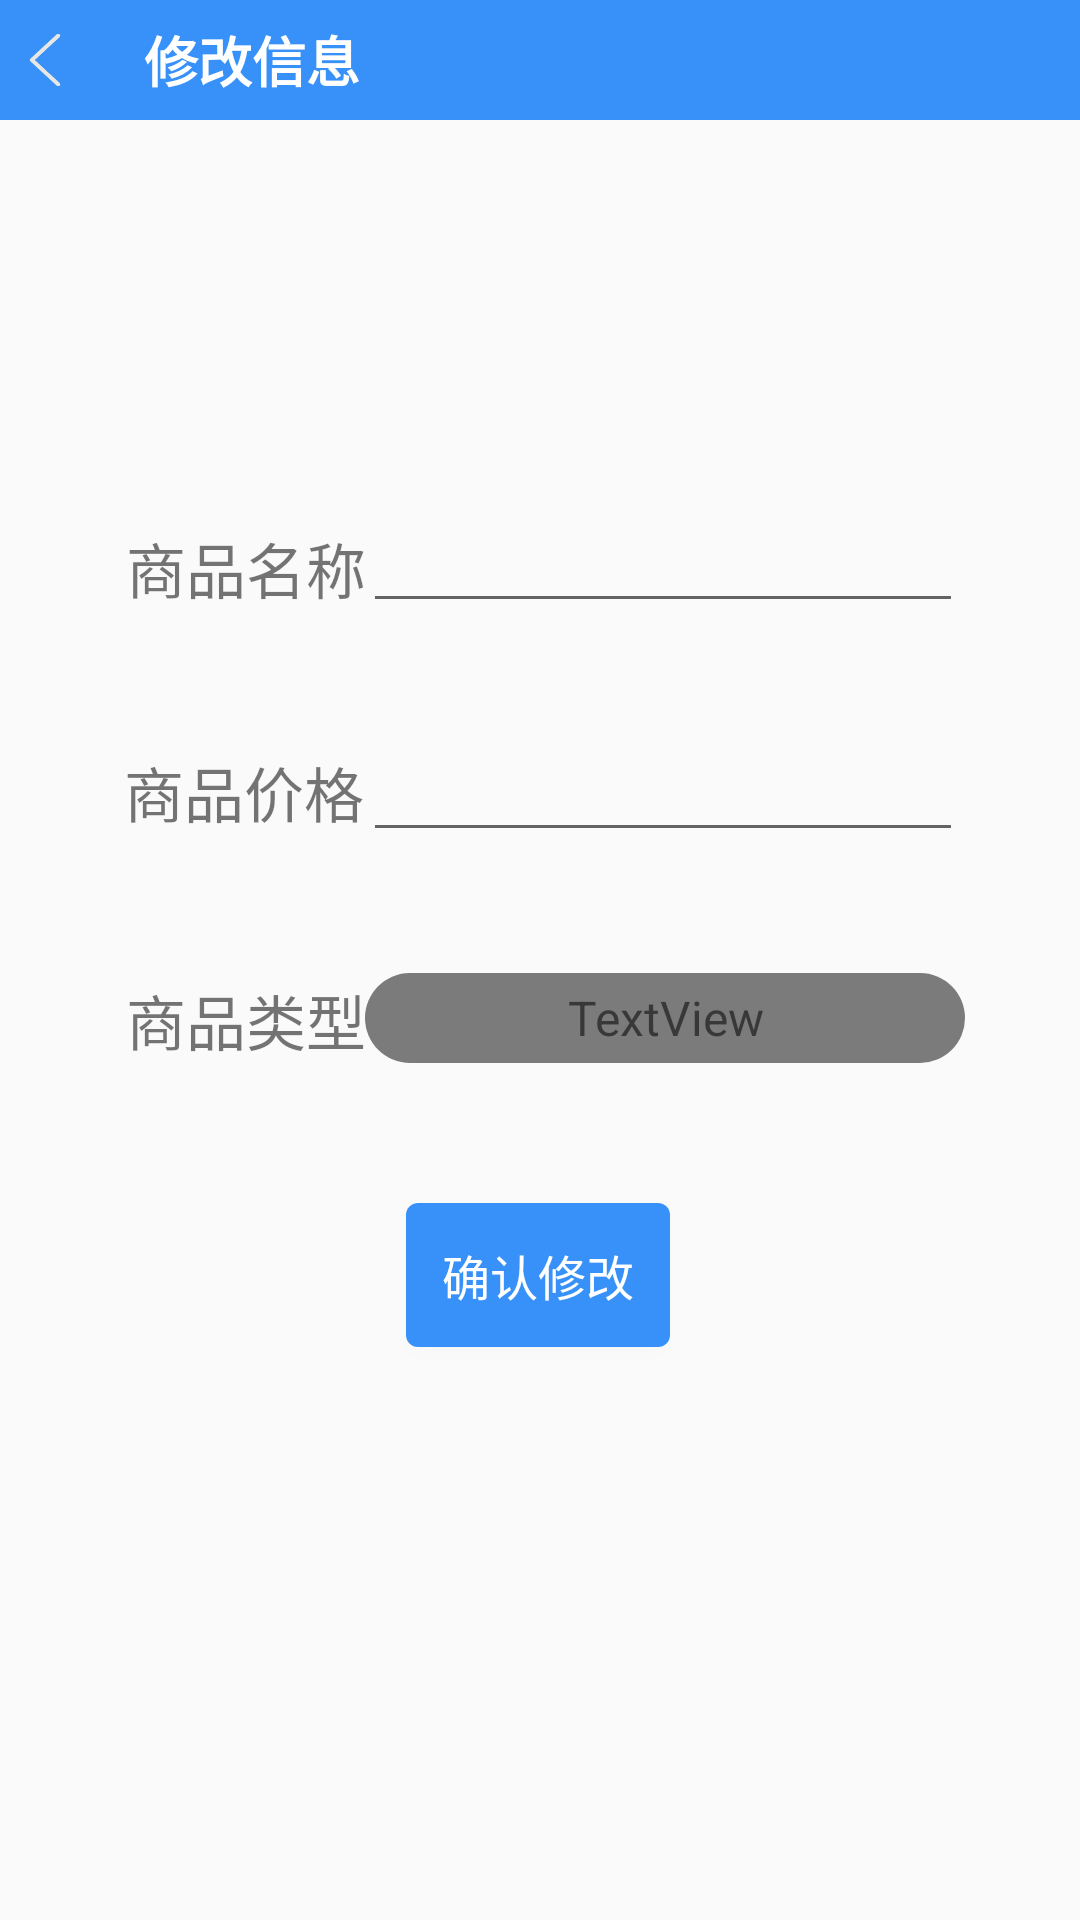

Screen size 1080*1920. Icon name, then its box in pixels as box(x1, y1, x2, y2):
back: box(30, 34, 61, 86)
